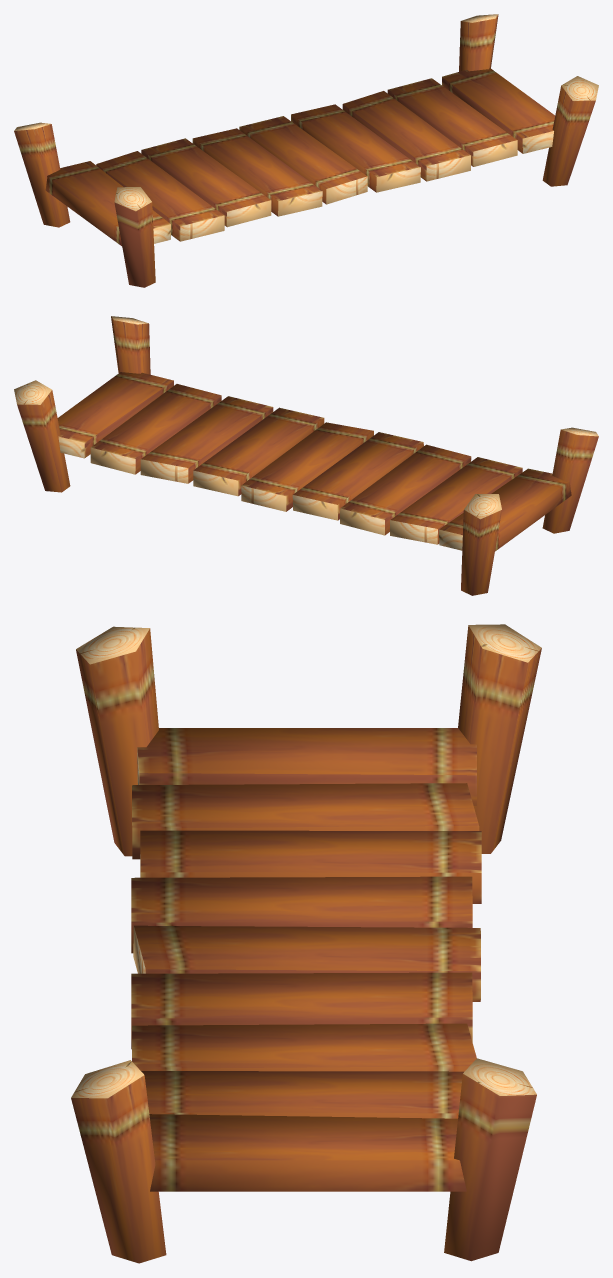
File: xmt.FBX
3 views of the same model, one above another, from view 1: azimuth 30°, elevation 25°; view 2: azimuth 150°, elevation 25°; view 3: azimuth 270°, elevation 25° (orthographic). The views are drawn at different scales.
Visible parts, largest first — view 1: Bridge_01_a; view 2: Bridge_01_a; view 3: Bridge_01_a.
Part boxes in pixels (left/top/right/bottom): Bridge_01_a: left=14, top=14, right=598, bottom=287; Bridge_01_a: left=14, top=316, right=598, bottom=595; Bridge_01_a: left=71, top=624, right=541, bottom=1263.
Size of the model in its own units: 329 by 64 by 138.
